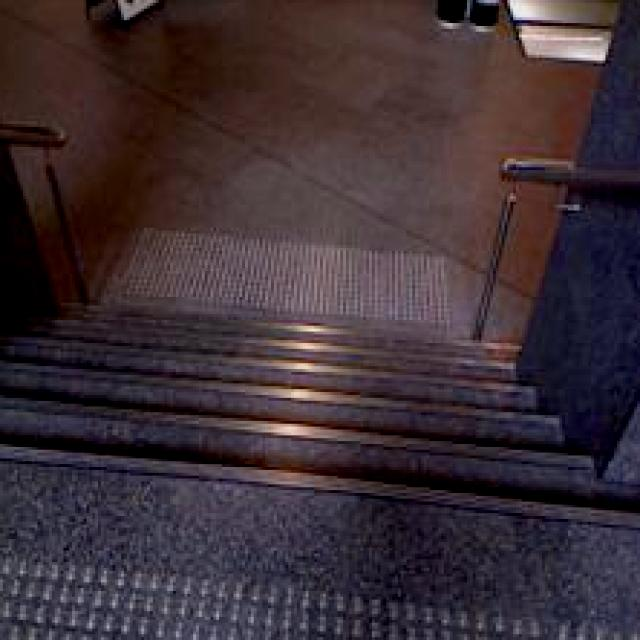downstair: (30, 350, 526, 606)
